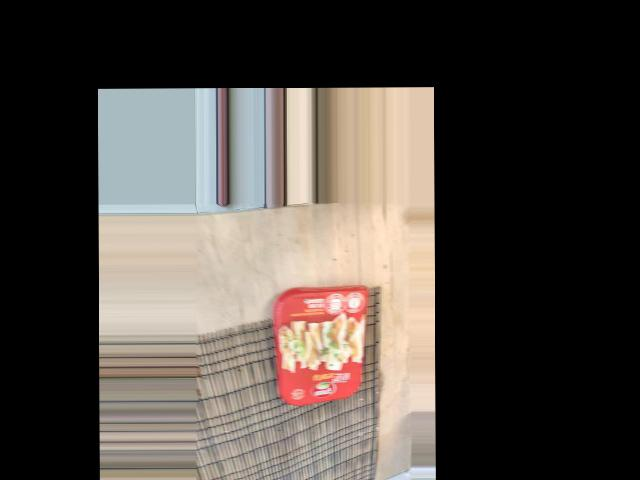cheese: (185, 322, 319, 410)
